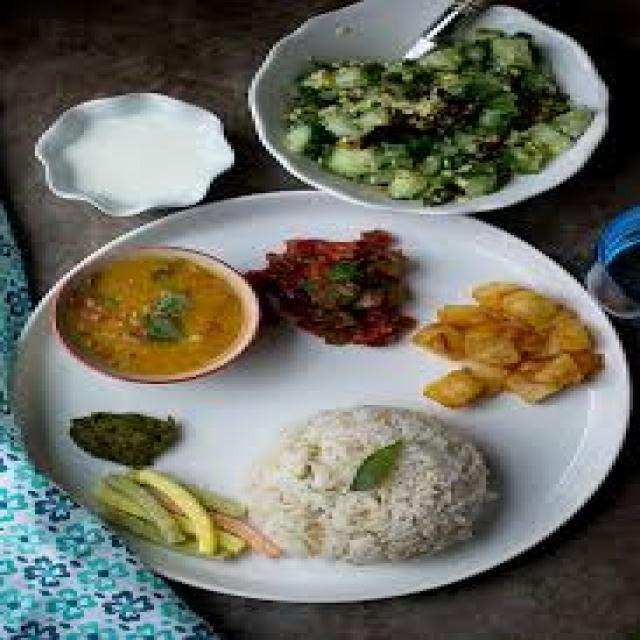curd: (29, 81, 251, 222)
dal: (50, 253, 260, 381)
rice: (247, 402, 500, 562)
